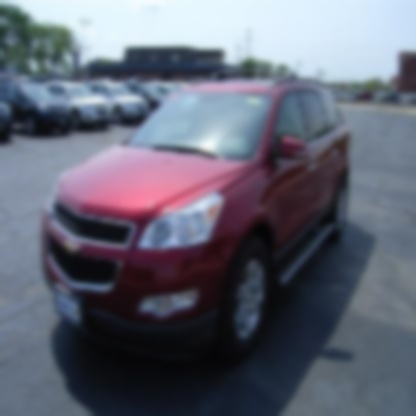Vehicle: (40, 67, 353, 363)
